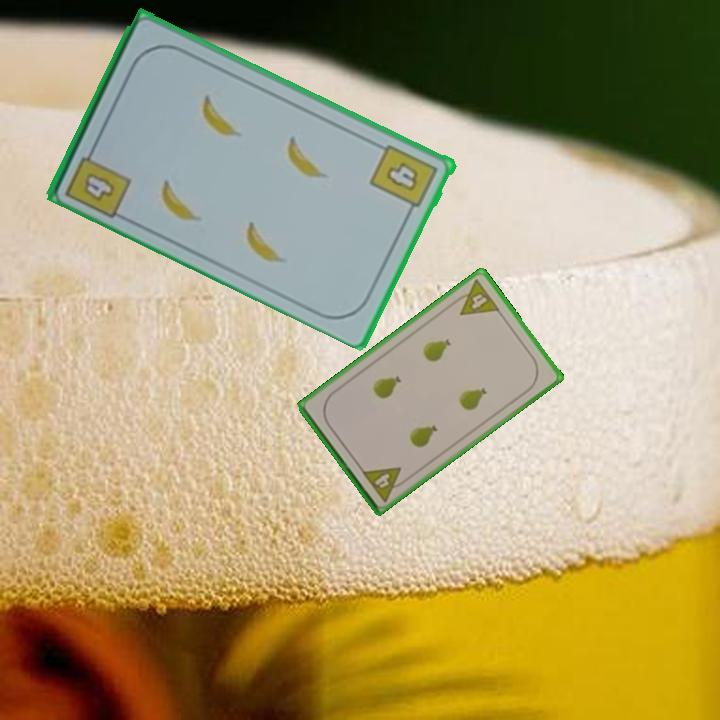4b: (367, 140, 442, 219), (62, 140, 135, 221)
4p: (449, 275, 503, 318), (358, 463, 411, 505)
